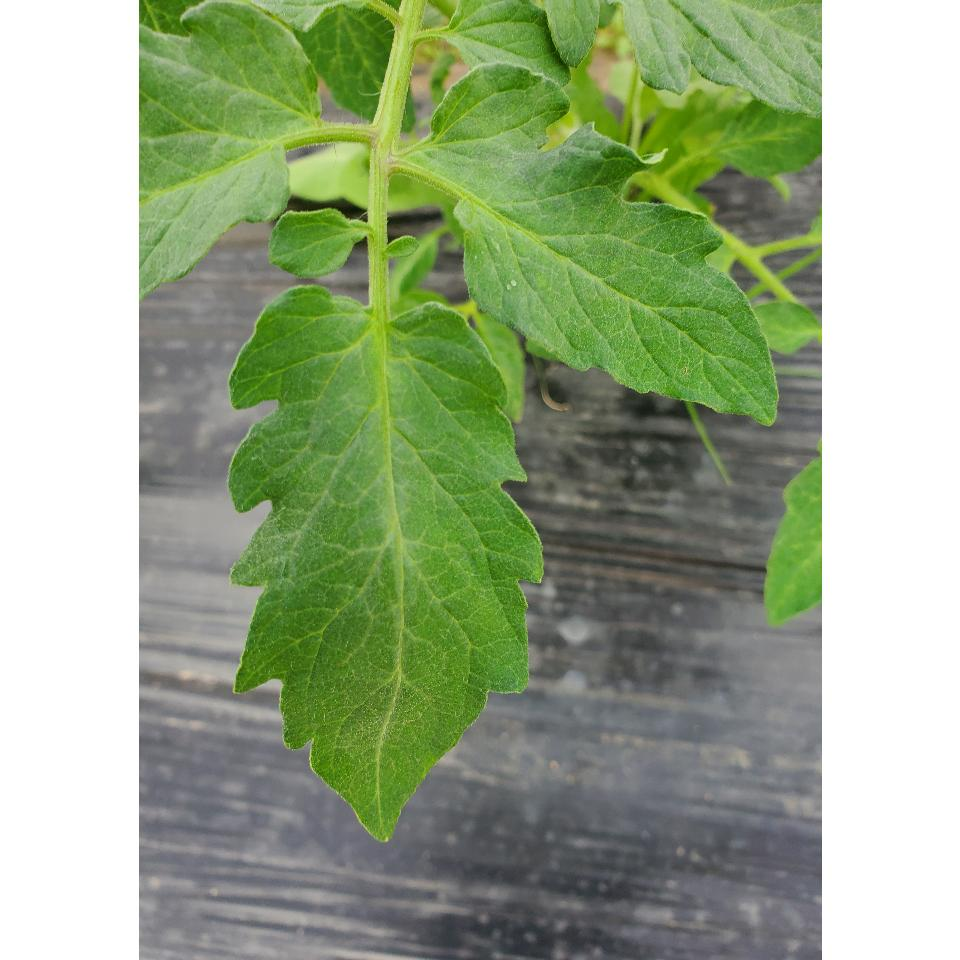tomato_leaves: (232, 293, 540, 833), (404, 65, 776, 425)
